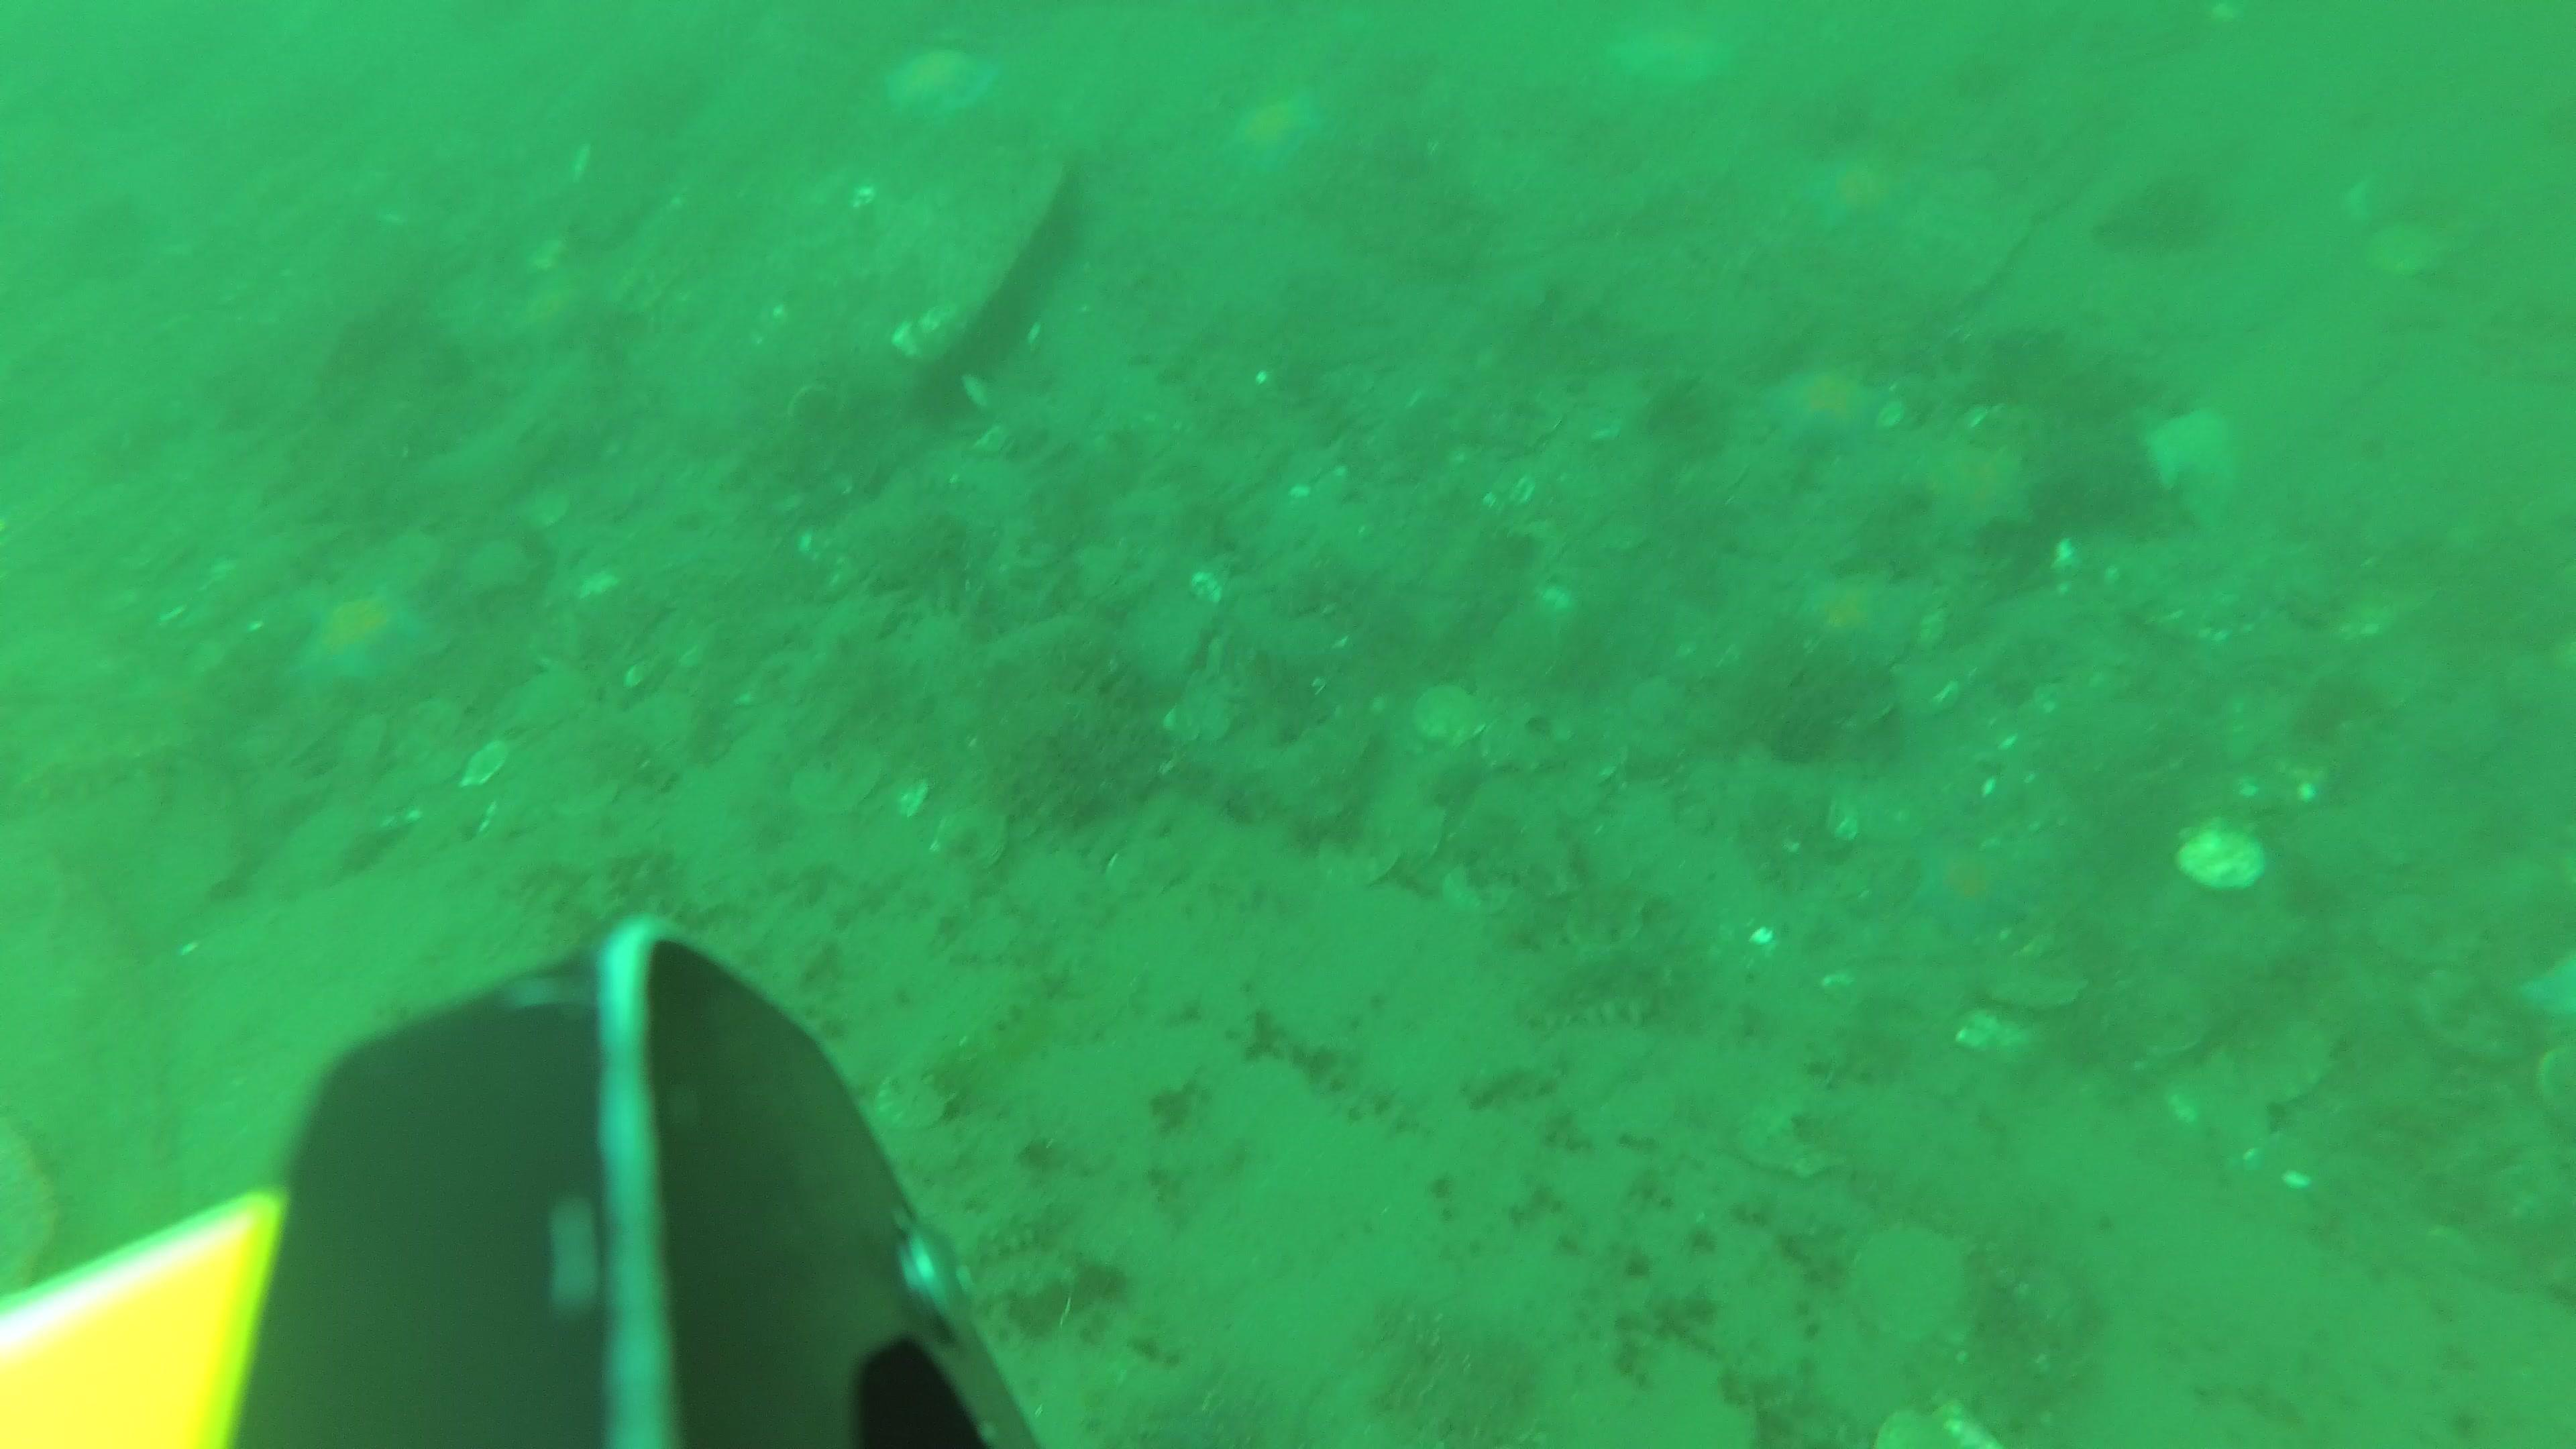holothurian: (1518, 913, 1693, 1037)
scallop: (1845, 1219, 1971, 1343), (2231, 998, 2341, 1104), (2374, 885, 2484, 971), (2424, 970, 2528, 1058), (2130, 970, 2212, 1058), (2176, 819, 2266, 893), (1985, 947, 2089, 1010), (1877, 1401, 2005, 1449), (929, 810, 1014, 878), (1323, 828, 1398, 897), (1415, 681, 1486, 747)
starfish: (1927, 444, 2042, 557), (306, 591, 441, 685), (1801, 571, 1923, 672), (1916, 837, 2024, 945), (1769, 361, 1890, 456), (2148, 402, 2250, 502), (1224, 92, 1323, 179), (1815, 152, 1909, 239), (892, 48, 1000, 122), (1617, 21, 1736, 88), (2521, 948, 2576, 1037)
